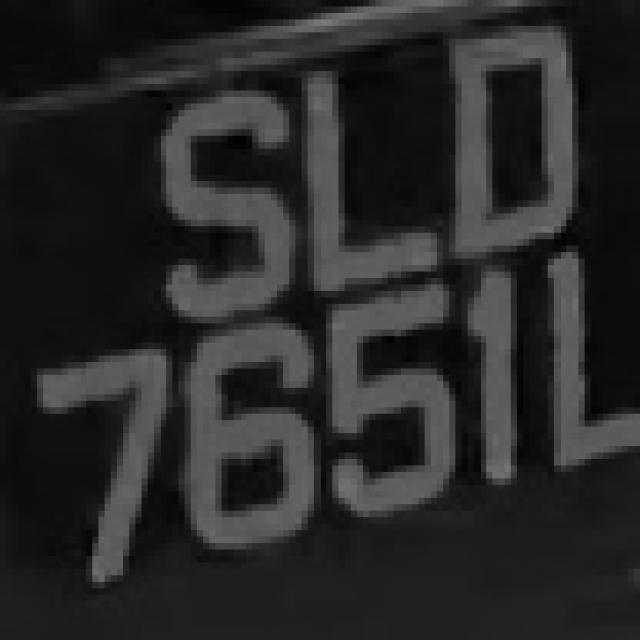1: (462, 233, 536, 491)
5: (314, 259, 461, 530)
6: (172, 310, 326, 569)
7: (12, 336, 172, 608)
D: (425, 26, 597, 265)
L: (289, 58, 437, 304), (535, 233, 628, 465)
S: (142, 64, 283, 330)
